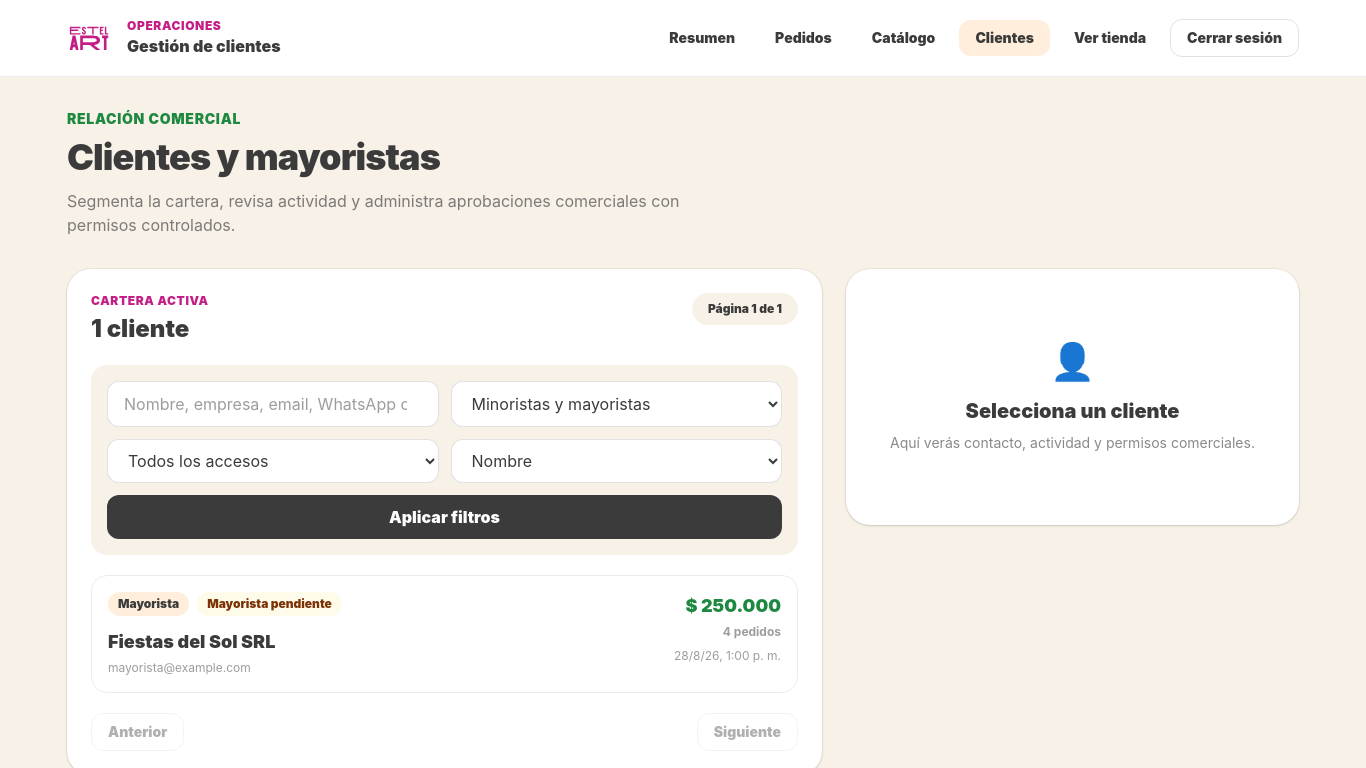
GestionClientes › mantiene al operador en modo consulta
Click the button "Fiestas del Sol SRL": [149, 604] box [91,575,798,693]
(page scrolled)
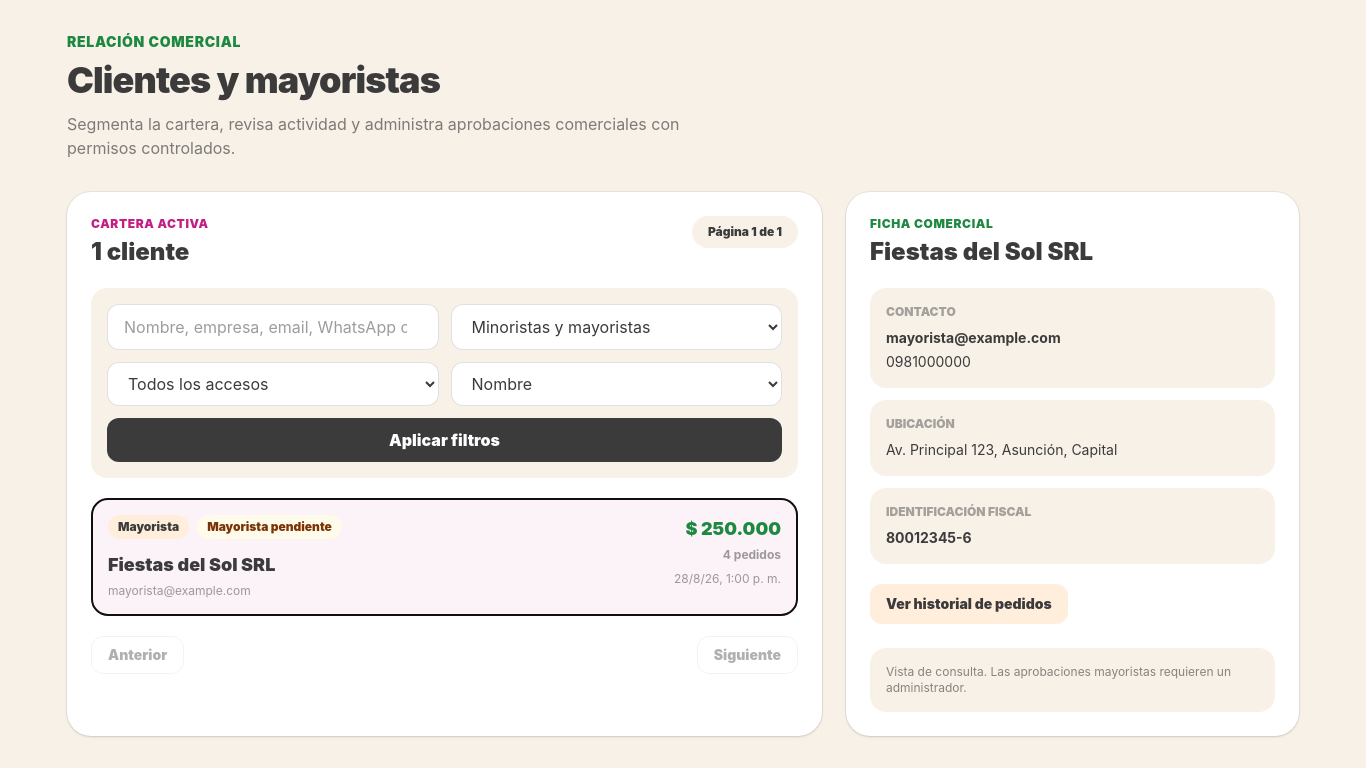
Expected: the text "Vista de consulta. Las aprobaciones mayoristas requieren un administrador." is shown, [870,648,1275,712]
